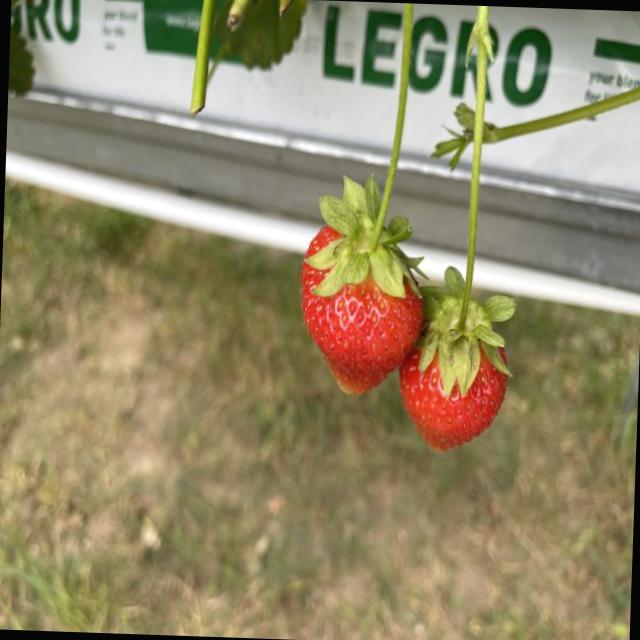stem: (419, 5, 512, 396), (305, 3, 421, 298)
strawberryR: (300, 260, 422, 394), (399, 348, 507, 450), (305, 225, 341, 257)
